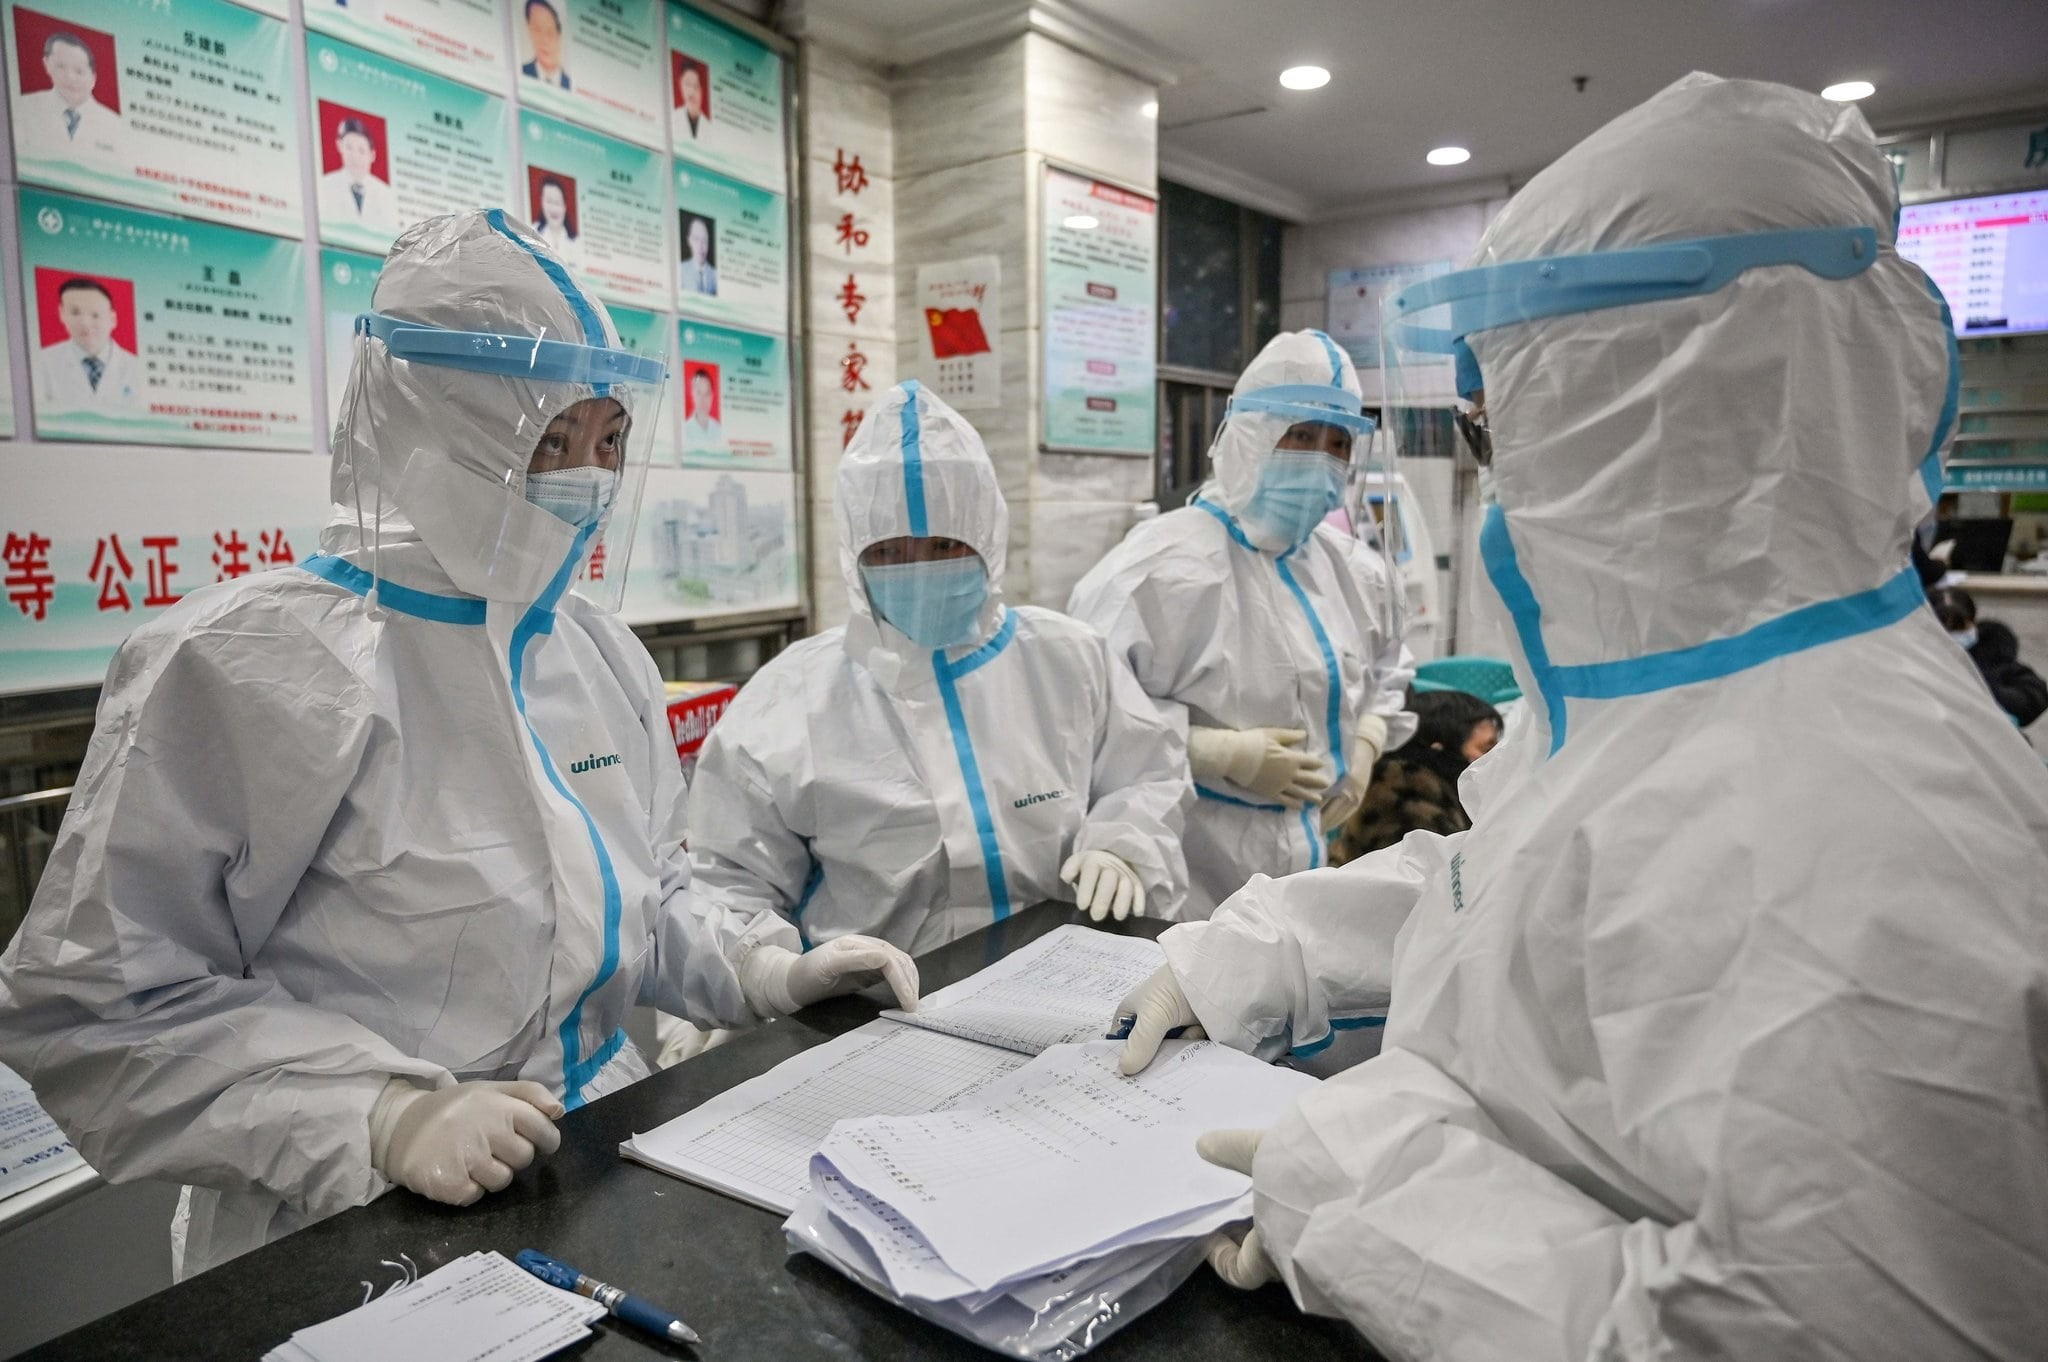Coverall: (1299, 79, 2048, 1362), (4, 203, 729, 1287), (692, 379, 1190, 925), (1068, 330, 1399, 899)
Face_Shield: (1368, 234, 1868, 727), (348, 310, 681, 652), (1217, 399, 1379, 572), (859, 516, 1006, 685)
Gloves: (368, 1072, 570, 1214), (739, 927, 930, 1023), (1190, 1121, 1290, 1287), (1104, 961, 1212, 1103), (1170, 723, 1328, 821), (1050, 845, 1148, 930), (1315, 730, 1372, 836)
with_mask: (1437, 405, 1597, 750), (859, 543, 990, 654), (1239, 425, 1355, 550), (524, 427, 624, 561)
